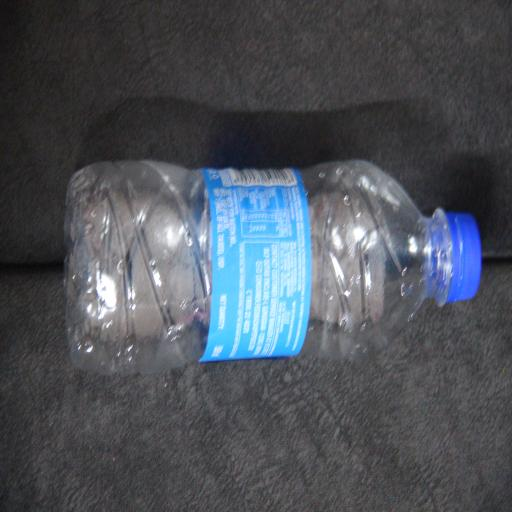Aquafina: (106, 47, 246, 512)
